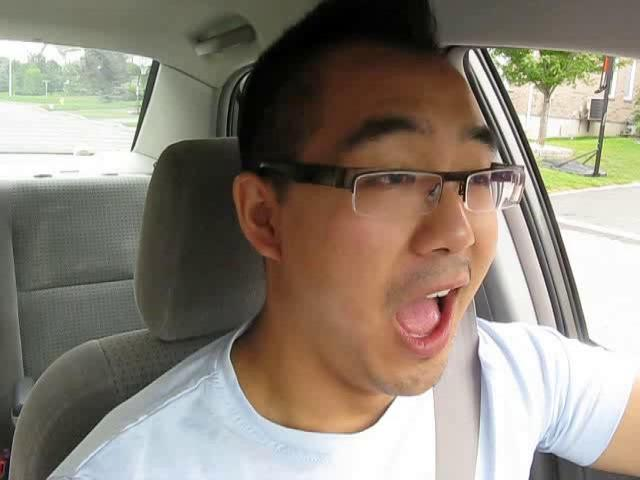eye_open: (356, 166, 432, 199), (460, 165, 497, 200)
face: (296, 109, 505, 399)
mouth_open: (390, 276, 475, 358)
